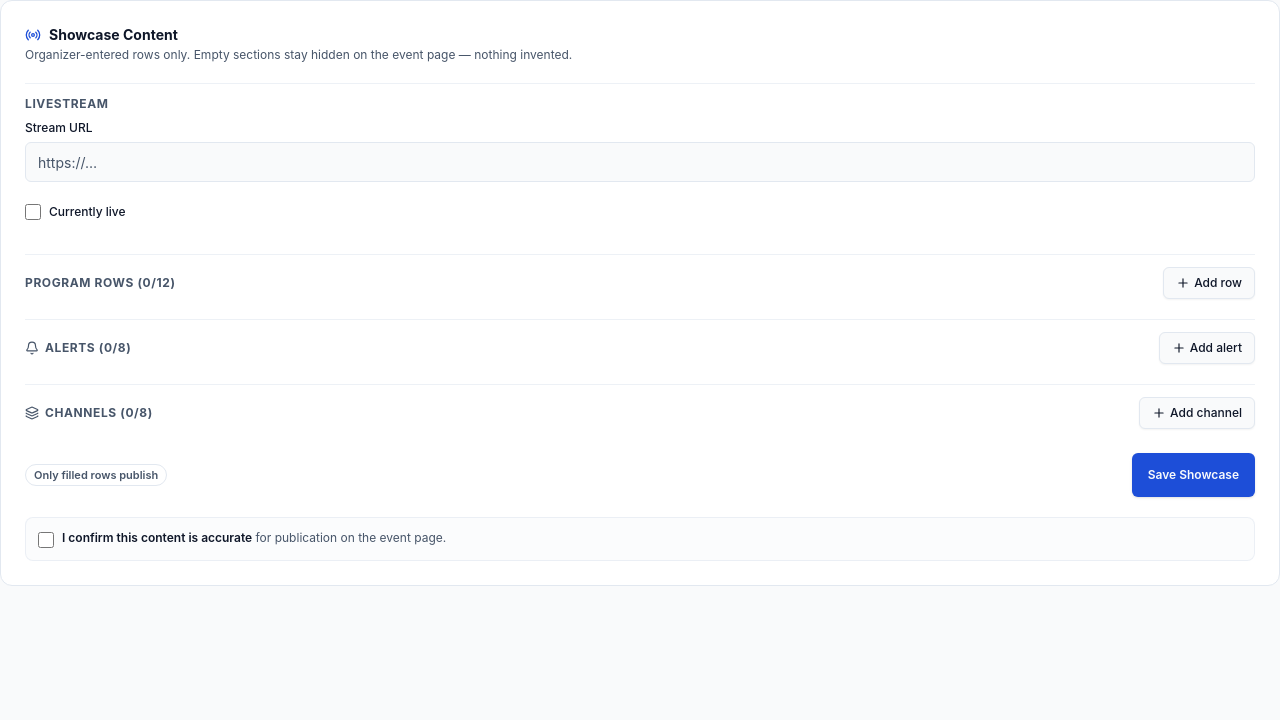
it: ShowcaseEditor authoring › requires attestation before saving
The image size is (1280, 720).
In the field labelled "Stream URL": [640, 162] box [25,142,1255,182], type "https://stream.example.com/live"
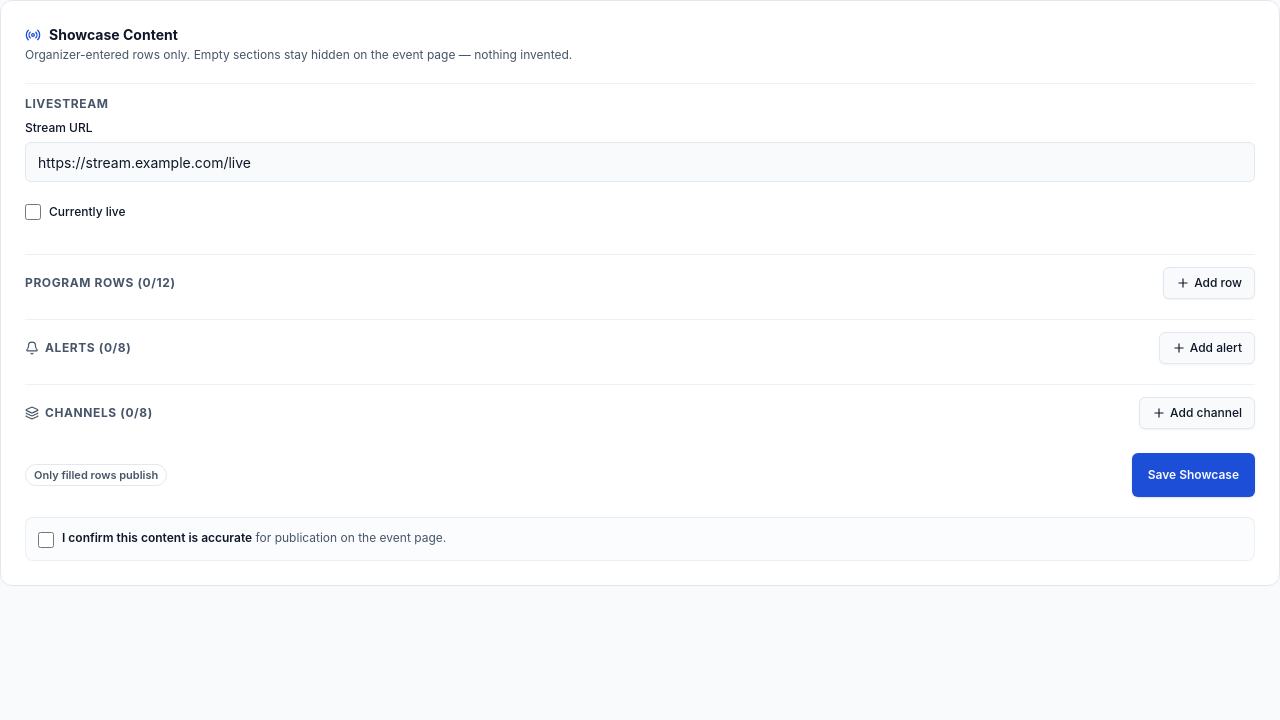
Click the button "Save Showcase": [1193, 475] box [1132,453,1255,497]
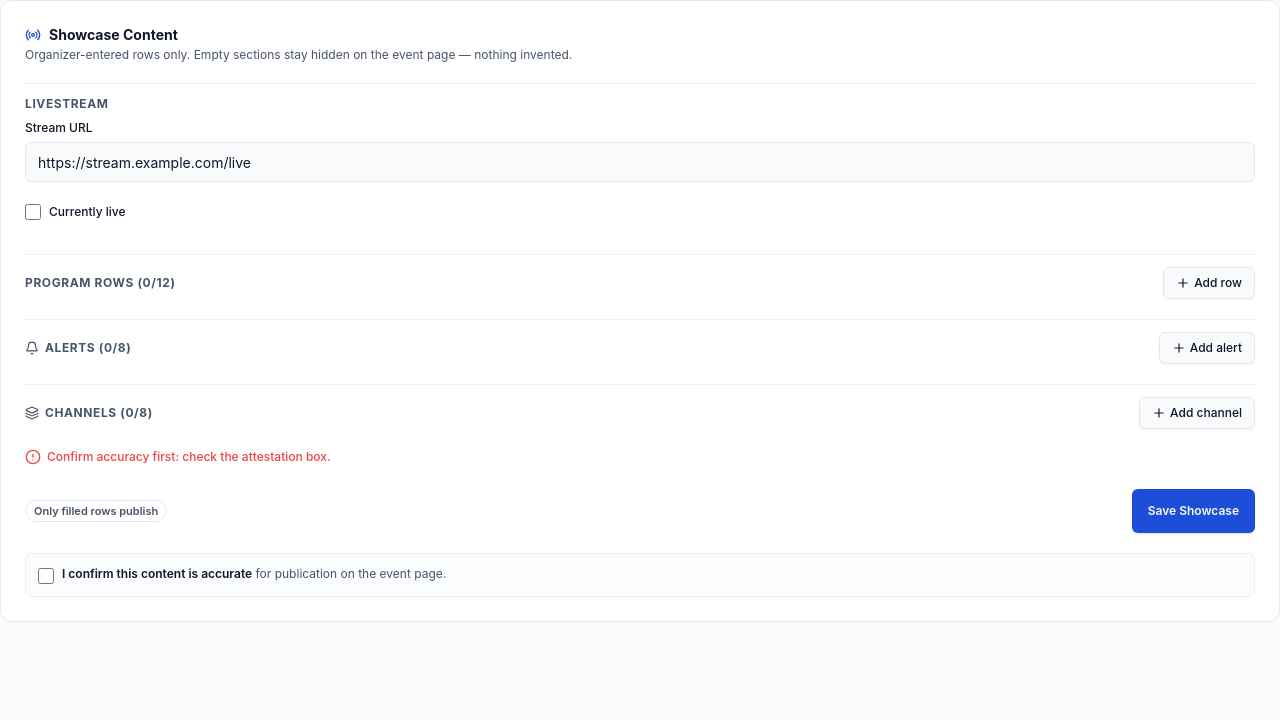
expect the message "Confirm accuracy first: check the attestation box." is shown: met, box [25,449,331,465]
